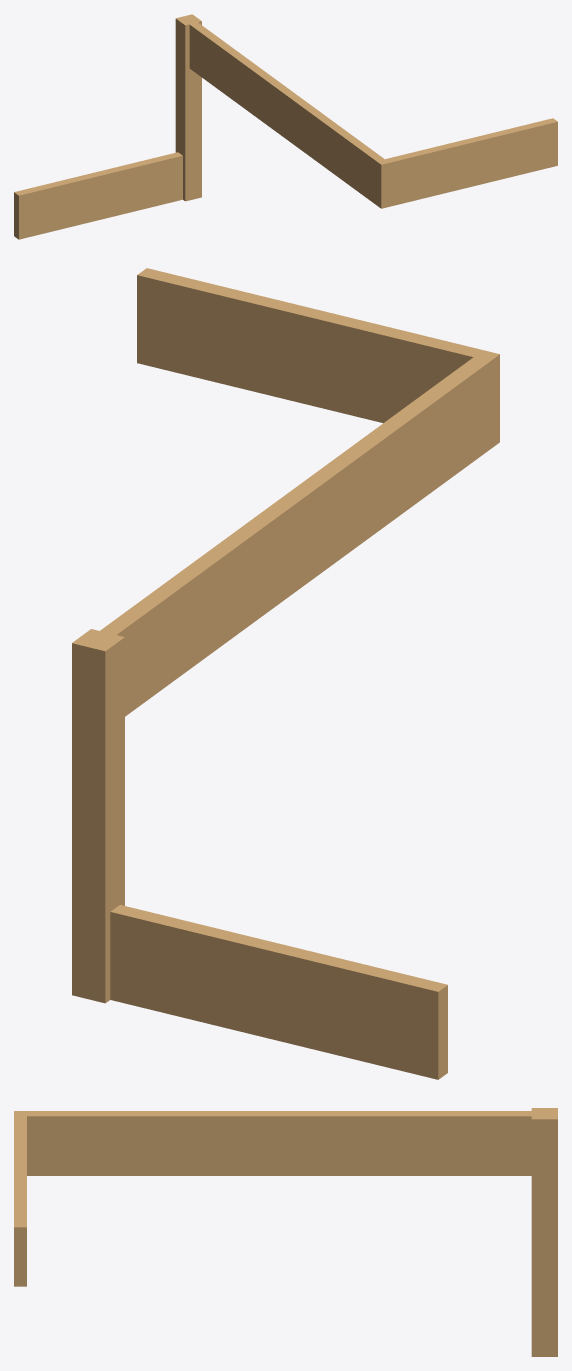
Rendered from board.glb.
The picture shows the model from 3 angles, top to bottom: view 1: azimuth 30°, elevation 25°; view 2: azimuth 150°, elevation 25°; view 3: azimuth 270°, elevation 25°; orthographic projection. The views are drawn at different scales.
Parts seen in each view (by area): view 1: Unified_Net_1_Island_2, Unified_Net_1_Island_1, Via_Polygon_0; view 2: Unified_Net_1_Island_2, Unified_Net_1_Island_1, Via_Polygon_0; view 3: Unified_Net_1_Island_2, Via_Polygon_0.
Part boxes in pixels (<box>): Unified_Net_1_Island_2: <box>182,17,557,208</box>; Unified_Net_1_Island_1: <box>14,152,182,239</box>; Via_Polygon_0: <box>175,14,201,201</box>; Unified_Net_1_Island_2: <box>86,268,499,716</box>; Unified_Net_1_Island_1: <box>110,905,447,1079</box>; Via_Polygon_0: <box>72,629,124,1003</box>; Unified_Net_1_Island_2: <box>14,1111,551,1286</box>; Via_Polygon_0: <box>531,1108,557,1356</box>.
Bounding box in the file's own units: 0.00041 × 0.0002 × 0.000415.
